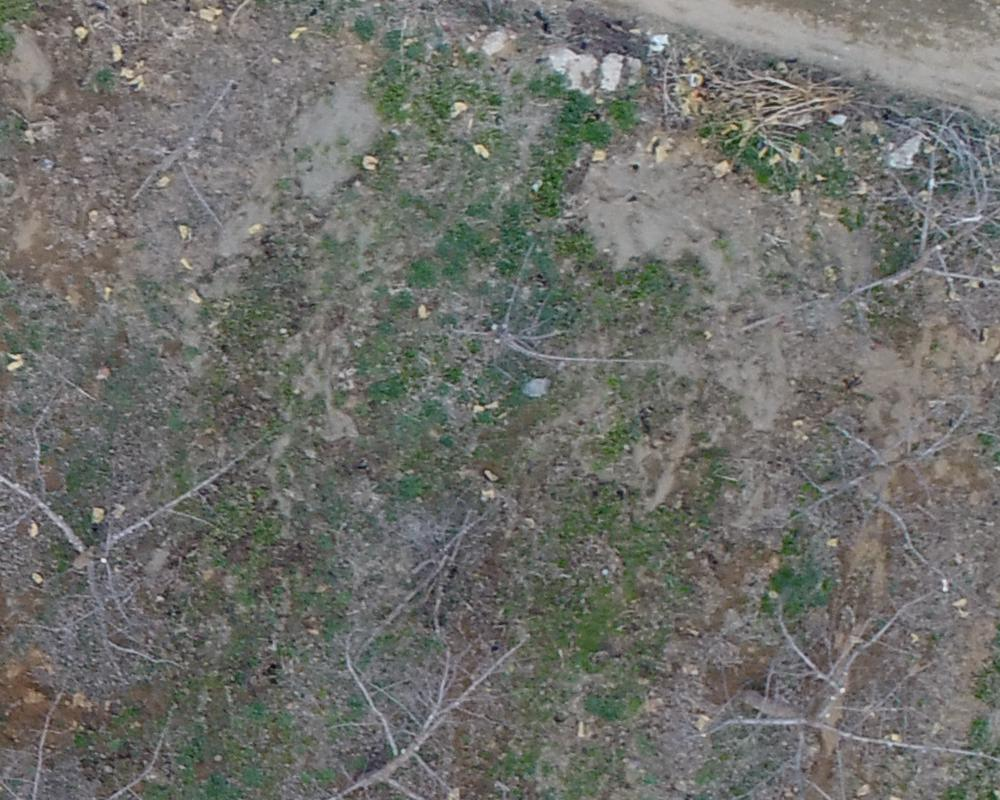apple: (10, 374, 276, 692), (664, 581, 990, 790), (294, 631, 605, 790), (429, 242, 697, 415), (752, 400, 990, 572), (305, 489, 526, 648), (811, 156, 990, 345)
